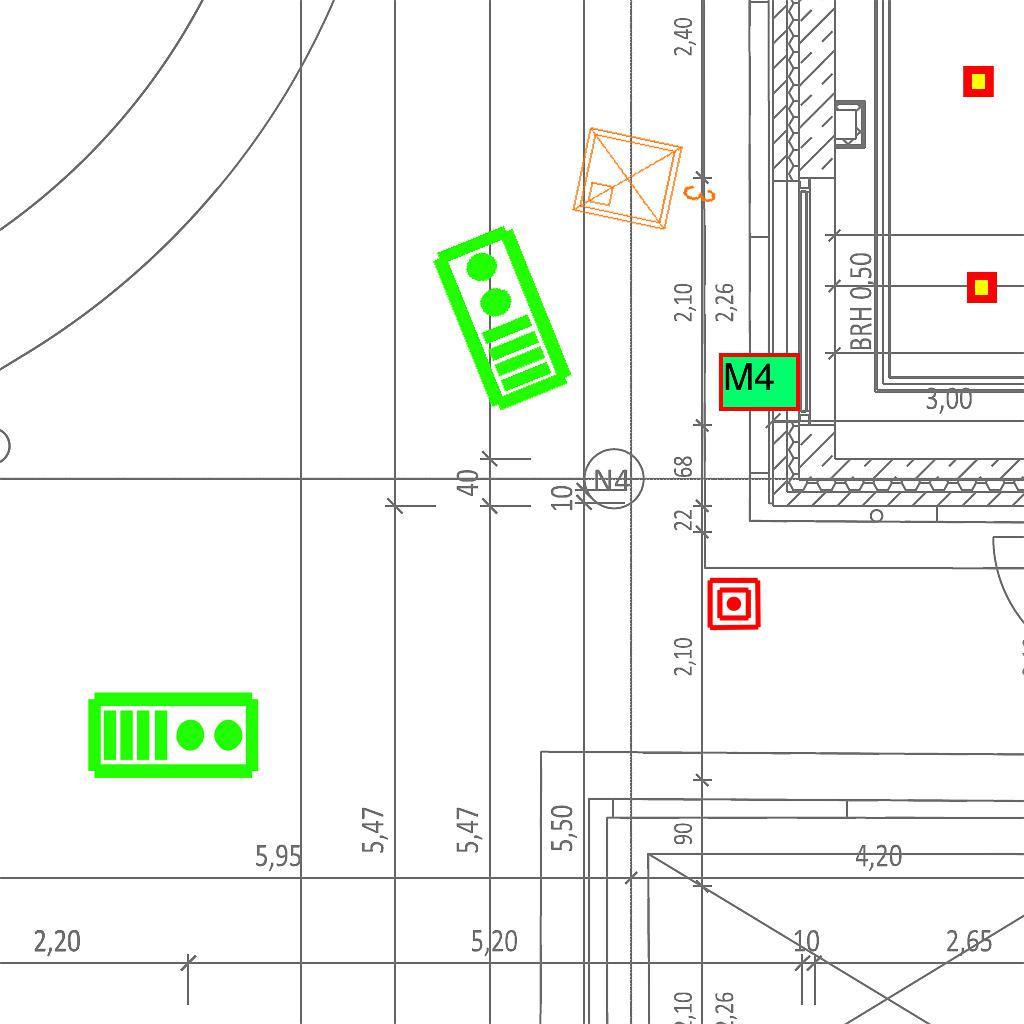Einbaudownlights_LED_Konferenzraeume: (563, 114, 733, 248)
Gegensprechanlage_mit_Video: (423, 218, 578, 418), (86, 686, 262, 781)
NAM-Nichtautomatischer_Melder: (706, 576, 762, 632)
